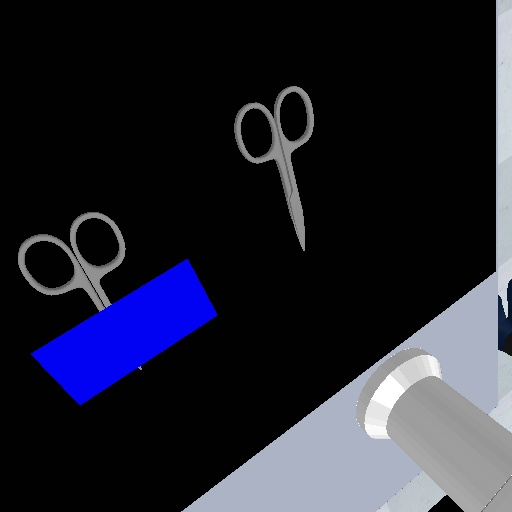tijera: (230, 81, 323, 255), (14, 203, 129, 317)
